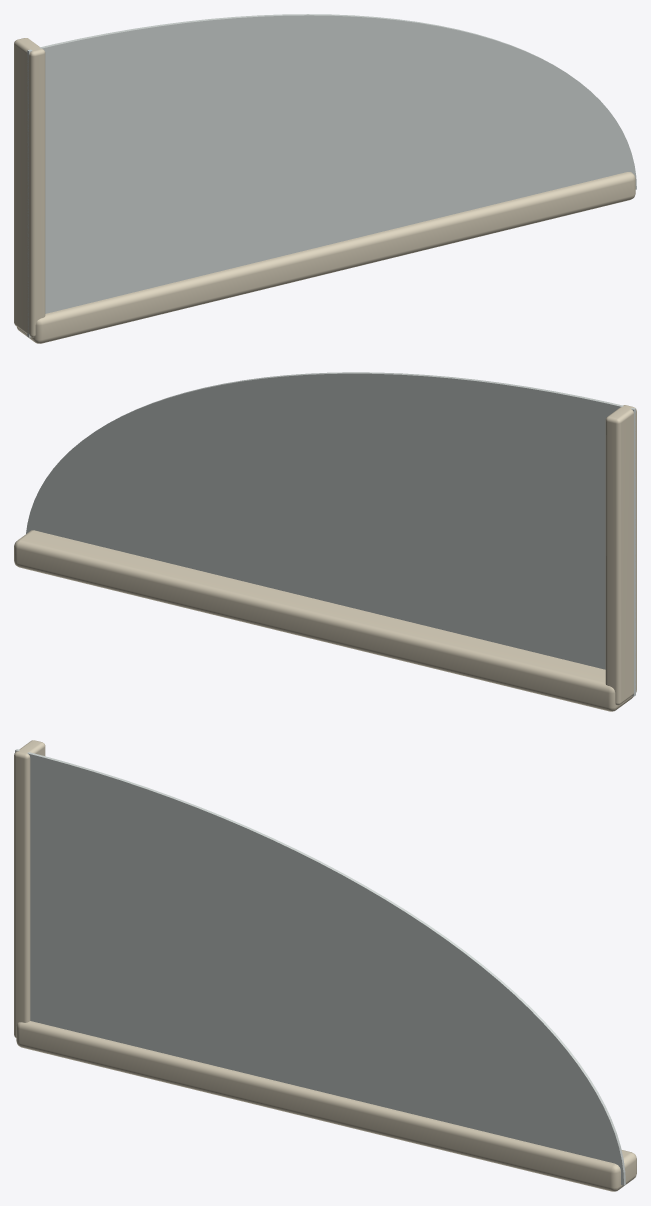
File: garden-roof-end-half-2m.glb
3 views of the same model, one above another, from view 1: azimuth 30°, elevation 25°; view 2: azimuth 150°, elevation 25°; view 3: azimuth 330°, elevation 25° (orthographic).
Parts seen in each view (by area): view 1: garden-roof-end-half-2m / 07 • smoked teal glass, garden-roof-end-half-2m / 01 • warm porcelain paint; view 2: garden-roof-end-half-2m / 07 • smoked teal glass, garden-roof-end-half-2m / 01 • warm porcelain paint; view 3: garden-roof-end-half-2m / 07 • smoked teal glass, garden-roof-end-half-2m / 01 • warm porcelain paint.
Boxes of the visible parts, left/top/right/bottom form: garden-roof-end-half-2m / 07 • smoked teal glass: left=27, top=14, right=636, bottom=337; garden-roof-end-half-2m / 01 • warm porcelain paint: left=14, top=38, right=635, bottom=343; garden-roof-end-half-2m / 07 • smoked teal glass: left=26, top=372, right=635, bottom=696; garden-roof-end-half-2m / 01 • warm porcelain paint: left=14, top=405, right=636, bottom=711; garden-roof-end-half-2m / 07 • smoked teal glass: left=15, top=749, right=625, bottom=1185; garden-roof-end-half-2m / 01 • warm porcelain paint: left=14, top=740, right=636, bottom=1191.
Bounding box in the file's own units: 2 × 0.9225 × 0.13.
